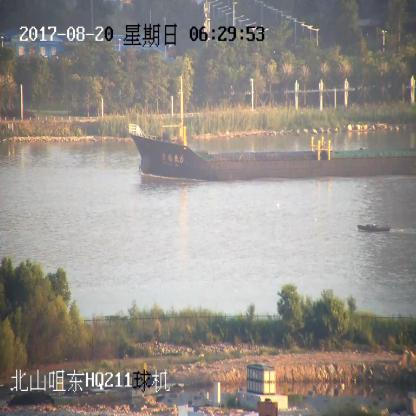Fishing Boat: (357, 219, 391, 234)
